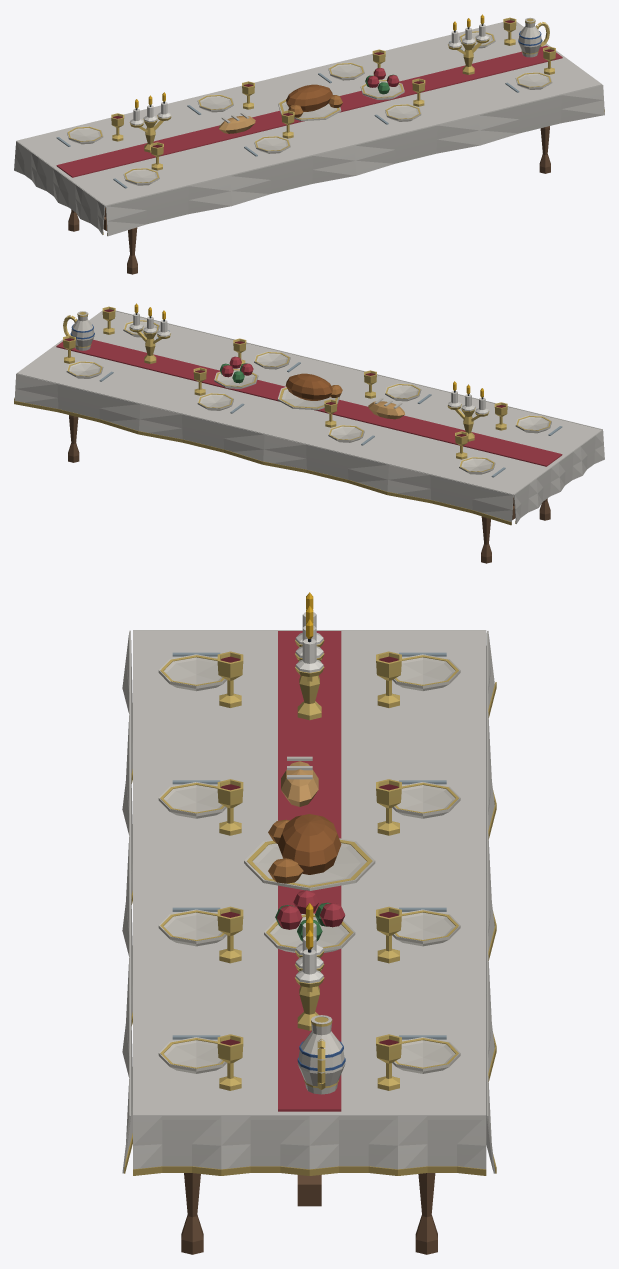
File: palace_dining_table.glb
3 renders of one model, top to bottom at view 1: azimuth 30°, elevation 25°; view 2: azimuth 150°, elevation 25°; view 3: azimuth 270°, elevation 25°, orthographic. The views are drawn at different scales.
Parts seen in each view (by area): view 1: palace_dining_table; view 2: palace_dining_table; view 3: palace_dining_table.
Boxes of the visible parts, <box> form: palace_dining_table: <box>14,14,604,274</box>; palace_dining_table: <box>14,303,604,563</box>; palace_dining_table: <box>122,592,496,1254</box>.
Size of the model in its own units: 5.84 by 1.6 by 1.88.
